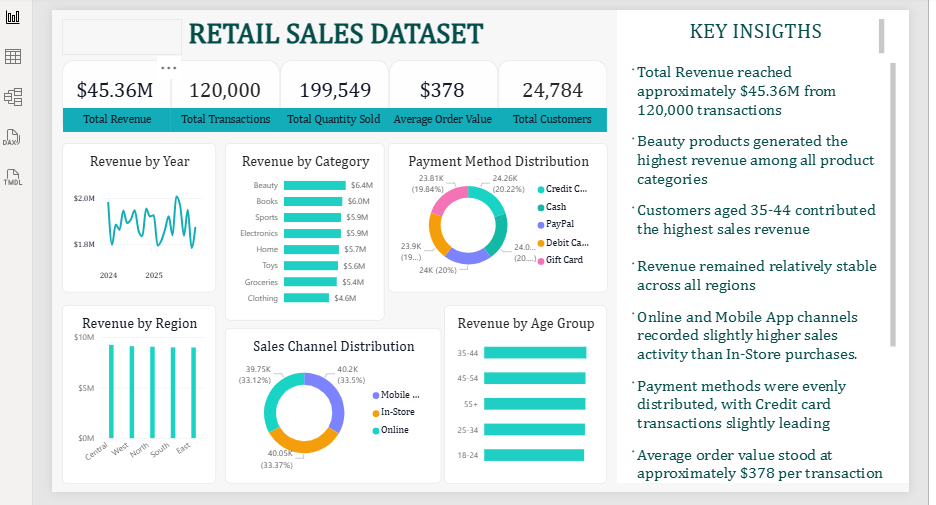

The page's visual inventory and layout, read from the dashboard file:
{"tool":"powerbi","page":{"name":"Page 1","canvas":[1280,720],"ordinal":0},"visuals":[{"type":"textbox","box":[843.3,81.7,398.3,46.7],"z":0},{"type":"shape","box":[340,74.3,162.9,105.7],"z":1000},{"type":"shape","box":[177.3,74.2,162.1,107.6],"z":2000},{"type":"shape","box":[502.9,74.3,162.9,107.1],"z":3000},{"type":"shape","box":[665.7,74.3,162.9,107.1],"z":4000},{"type":"shape","box":[15.2,74.2,162.1,107.6],"z":5000},{"type":"shape","box":[843.3,0,437.3,706],"z":6000},{"type":"card","fields":{"Values":["Count(Retail_Sales_Dataset.transaction_id)"]},"box":[183.3,73.3,148.3,91.7],"z":7000},{"type":"card","fields":{"Values":["Retail_Sales_Dataset.Total Revenue"]},"box":[10,78.3,166.7,83.3],"z":8000},{"type":"card","fields":{"Values":["Sum(Retail_Sales_Dataset.quantity)"]},"box":[341.4,80,161.4,78.6],"z":9000},{"type":"card","fields":{"Values":["Retail_Sales_Dataset.Average Order Value"]},"box":[501.4,74.3,161.4,90],"z":10000},{"type":"card","fields":{"Values":["Count(Retail_Sales_Dataset.customer_id)"]},"box":[667.1,81.4,160,75.7],"z":11000},{"type":"barChart","title":"Revenue by Category","fields":{"Y":["Retail_Sales_Dataset.Total Revenue"],"Category":["Retail_Sales_Dataset.category"]},"box":[258.3,198.3,238.3,265],"z":12000},{"type":"donutChart","title":"Payment Method Distribution","fields":{"Y":["CountNonNull(Retail_Sales_Dataset.payment_method)"],"Category":["Retail_Sales_Dataset.payment_method"]},"box":[501.7,198.3,328.3,223.3],"z":13000},{"type":"clusteredColumnChart","title":"Revenue by Region","fields":{"Category":["Retail_Sales_Dataset.region"],"Y":["Retail_Sales_Dataset.Total Revenue"]},"box":[15,440,230,266.7],"z":14000},{"type":"donutChart","title":" Sales Channel Distribution","fields":{"Category":["Retail_Sales_Dataset.sales_channel"],"Y":["CountNonNull(Retail_Sales_Dataset.sales_channel)"]},"box":[258.3,475,323.3,231.7],"z":15000},{"type":"barChart","title":"Revenue by Age Group","fields":{"Y":["Retail_Sales_Dataset.Total Revenue"],"Category":["Retail_Sales_Dataset.customer_age_group"]},"box":[585,440,243.3,266.7],"z":16000},{"type":"shape","title":"Total Revenue","box":[15.7,145.7,161.4,35.7],"z":17000},{"type":"shape","title":"Total Revenue","box":[177.1,145.7,162.9,35.7],"z":18000},{"type":"shape","title":"Total Revenue","box":[338.6,145.7,162.9,35.7],"z":19000},{"type":"shape","title":"Total Revenue","box":[501.4,145.7,162.9,35.7],"z":20000},{"type":"shape","title":"Total Revenue","box":[664.3,145.7,164.3,35.7],"z":21000},{"type":"lineChart","title":"Revenue by Year","fields":{"Y":["Retail_Sales_Dataset.Total Revenue"],"Category":["Retail_Sales_Dataset.transaction_date.Variation.Date Hierarchy.Year","Retail_Sales_Dataset.transaction_date.Variation.Date Hierarchy.Month"]},"box":[15,198.3,230,223.3],"z":22000},{"type":"textbox","box":[180,13.3,486.7,53.3],"z":23000},{"type":"textbox","box":[15,13.3,178.3,53.3],"z":24000},{"type":"textbox","box":[100,100,300,300],"z":24001},{"type":"textbox","box":[867.2,13.4,374.6,53.7],"z":24002},{"type":"textbox","box":[100,100,300,300],"z":24003},{"type":"textbox","box":[855.2,79.1,404.5,626.9],"z":24004}]}

Visuals, with their boxes on the page's 1280x720 design canvas (x1, y1, x2, y2). These are canvas units, not pixel positions in the 936x505 screenshot, which may show the page scaled, cropped or inside an application window:
textbox: rect(843, 82, 1242, 128)
shape: rect(340, 74, 503, 180)
shape: rect(177, 74, 339, 182)
shape: rect(503, 74, 666, 181)
shape: rect(666, 74, 829, 181)
shape: rect(15, 74, 177, 182)
shape: rect(843, 0, 1281, 706)
card - Count(Retail_Sales_Dataset.transaction_id): rect(183, 73, 332, 165)
card - Retail_Sales_Dataset.Total Revenue: rect(10, 78, 177, 162)
card - Sum(Retail_Sales_Dataset.quantity): rect(341, 80, 503, 159)
card - Retail_Sales_Dataset.Average Order Value: rect(501, 74, 663, 164)
card - Count(Retail_Sales_Dataset.customer_id): rect(667, 81, 827, 157)
"Revenue by Category" barChart: rect(258, 198, 497, 463)
"Payment Method Distribution" donutChart: rect(502, 198, 830, 422)
"Revenue by Region" clusteredColumnChart: rect(15, 440, 245, 707)
" Sales Channel Distribution" donutChart: rect(258, 475, 582, 707)
"Revenue by Age Group" barChart: rect(585, 440, 828, 707)
"Total Revenue" shape: rect(16, 146, 177, 181)
"Total Revenue" shape: rect(177, 146, 340, 181)
"Total Revenue" shape: rect(339, 146, 502, 181)
"Total Revenue" shape: rect(501, 146, 664, 181)
"Total Revenue" shape: rect(664, 146, 829, 181)
"Revenue by Year" lineChart: rect(15, 198, 245, 422)
textbox: rect(180, 13, 667, 67)
textbox: rect(15, 13, 193, 67)
textbox: rect(100, 100, 400, 400)
textbox: rect(867, 13, 1242, 67)
textbox: rect(100, 100, 400, 400)
textbox: rect(855, 79, 1260, 706)
